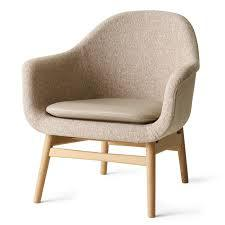chair: (12, 6, 203, 219)
